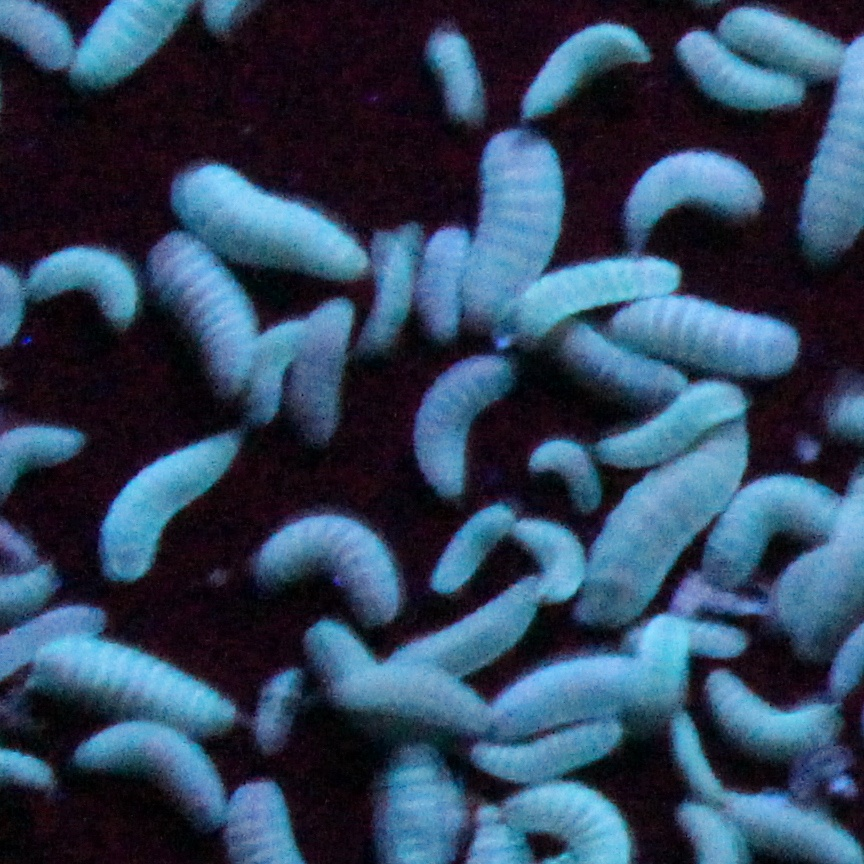larve: (579, 431, 756, 619), (159, 160, 374, 278), (34, 631, 245, 740), (465, 117, 563, 351), (97, 421, 240, 581), (702, 465, 845, 594), (604, 296, 820, 378), (138, 231, 254, 381), (245, 512, 406, 619), (409, 346, 520, 501), (70, 717, 236, 817), (597, 376, 752, 476), (381, 581, 538, 674), (513, 24, 665, 119), (513, 256, 684, 335), (486, 660, 654, 735), (459, 712, 636, 783), (706, 669, 845, 756), (674, 26, 811, 112), (627, 151, 765, 235), (345, 660, 490, 731), (561, 319, 695, 390), (293, 294, 354, 442), (424, 508, 524, 596), (509, 512, 595, 612), (718, 8, 845, 74), (29, 246, 134, 319), (413, 221, 472, 346), (634, 610, 693, 724), (420, 28, 488, 121), (529, 431, 609, 510), (243, 321, 302, 426), (370, 221, 413, 349), (295, 617, 374, 678), (672, 710, 722, 801), (254, 671, 302, 753)
